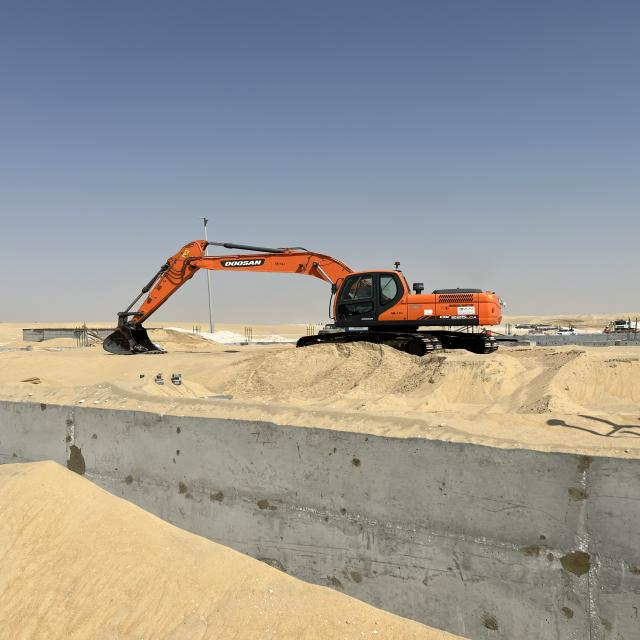Excavator: (101, 236, 504, 363)
